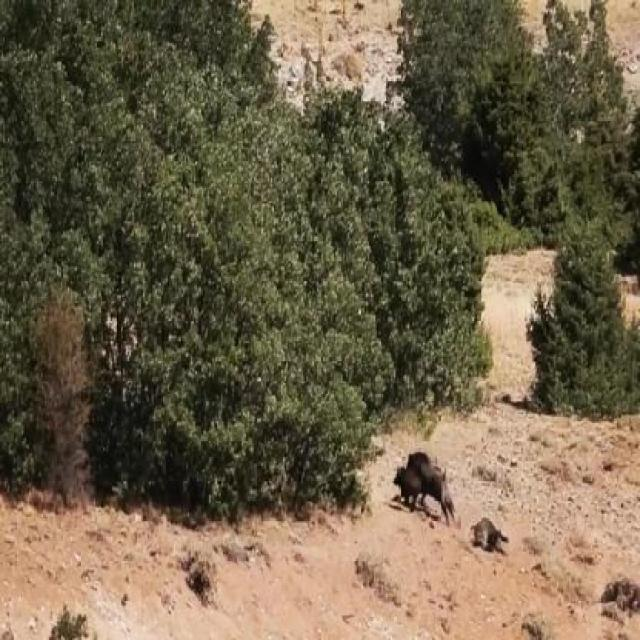pig: (403, 424, 464, 512), (472, 500, 507, 557)
